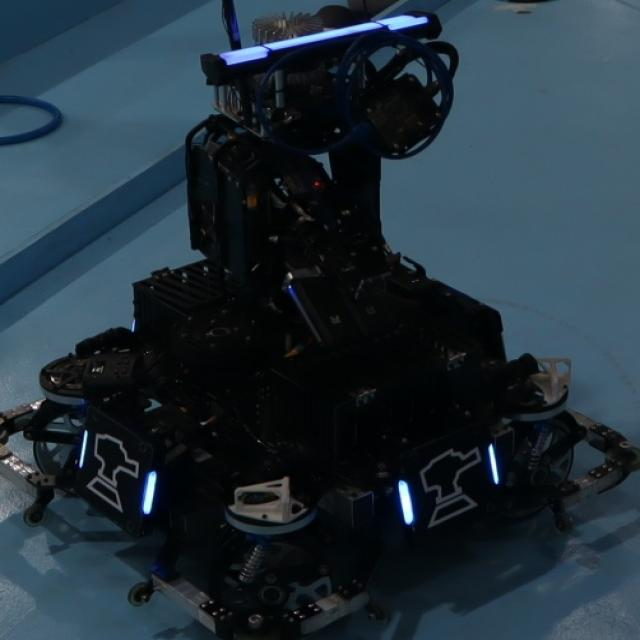Bs: (393, 436, 502, 534), (75, 418, 166, 521)
